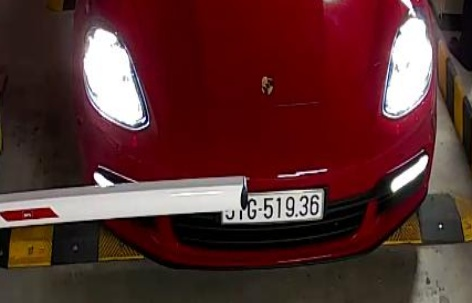plate: (213, 187, 329, 226)
